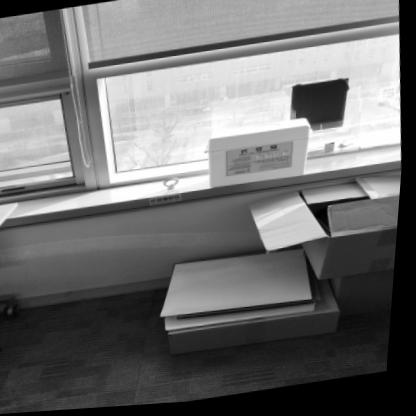DDL: (206, 121, 316, 193)
